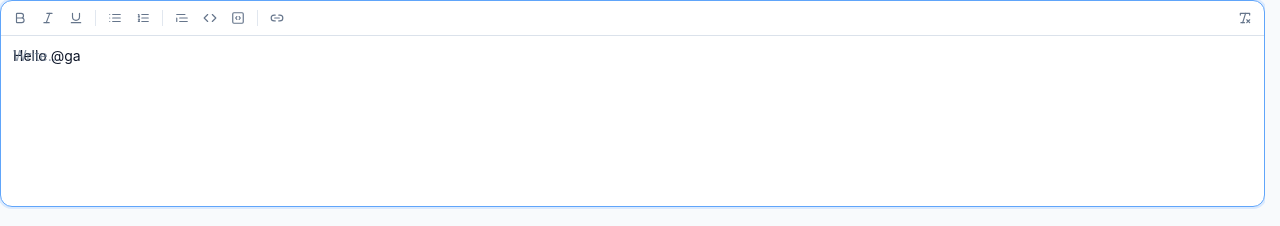
Test case: the @ menu in the note editor › offers matching colleagues after "@" and inserts the picked name
Clear the field named "Internal note body" at (47, 56), box [13, 47, 81, 64]
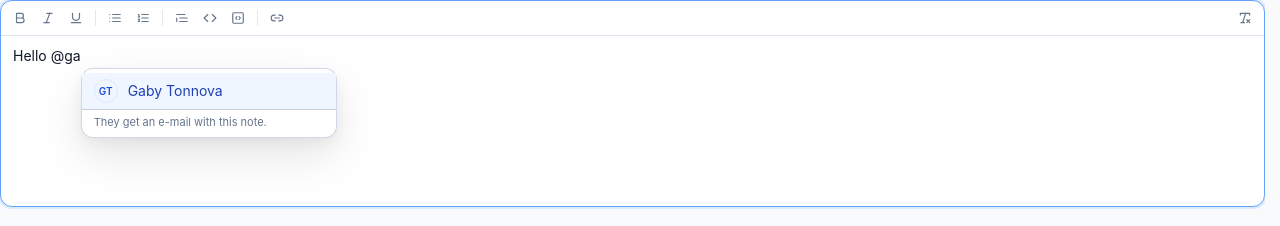
Expected: the list with test id "mention-menu" does not show "Soheil", [81, 68, 337, 138]
Expected: the list with test id "mention-menu" shows "Gaby Tonnova"
Press the mouse on the option "GT Gaby Tonnova" at (209, 91), box [82, 73, 336, 109]
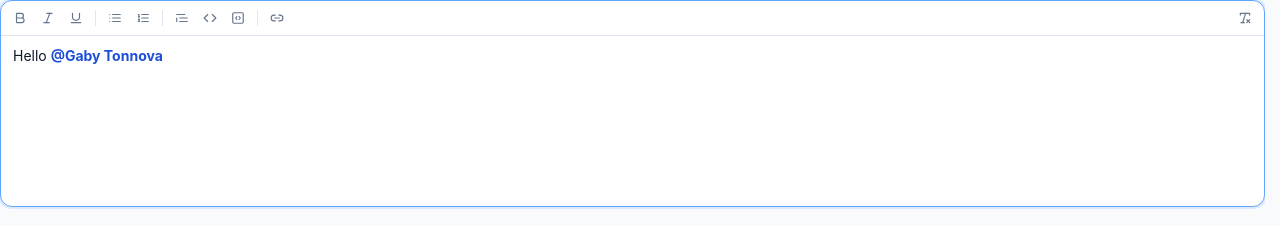
Expected: the text box with class "tp-mention" reads "@Gaby Tonnova", [51, 47, 163, 64]
Expected: the list with test id "mention-menu" is gone
